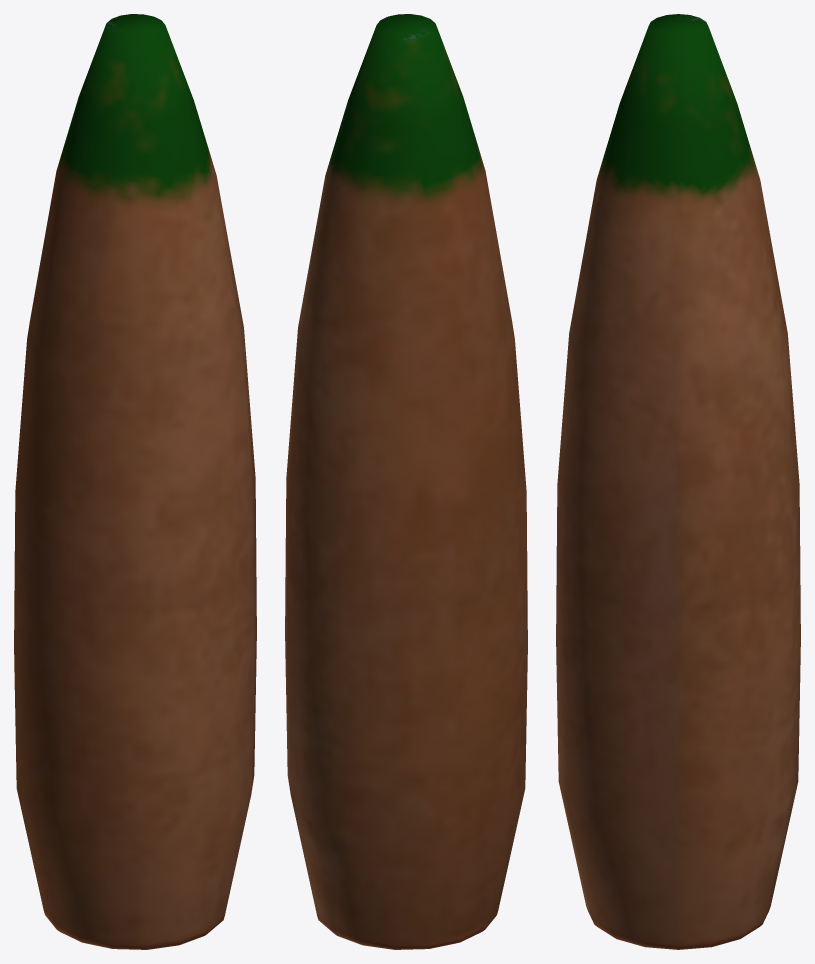
Rendered from Bullet.fbx.
3 views of the same model, side by side, from view 1: azimuth 30°, elevation 25°; view 2: azimuth 150°, elevation 25°; view 3: azimuth 270°, elevation 25° (orthographic).
Parts seen in each view (by area): view 1: Projectile_04_low.001; view 2: Projectile_04_low.001; view 3: Projectile_04_low.001.
Part boxes in pixels (left/top/right/bottom): Projectile_04_low.001: left=14, top=14, right=256, bottom=949; Projectile_04_low.001: left=285, top=14, right=527, bottom=949; Projectile_04_low.001: left=556, top=14, right=800, bottom=949.
Bounding box in the file's own units: 0.1001 × 0.4005 × 0.1001.
1 material, 1 textured.
